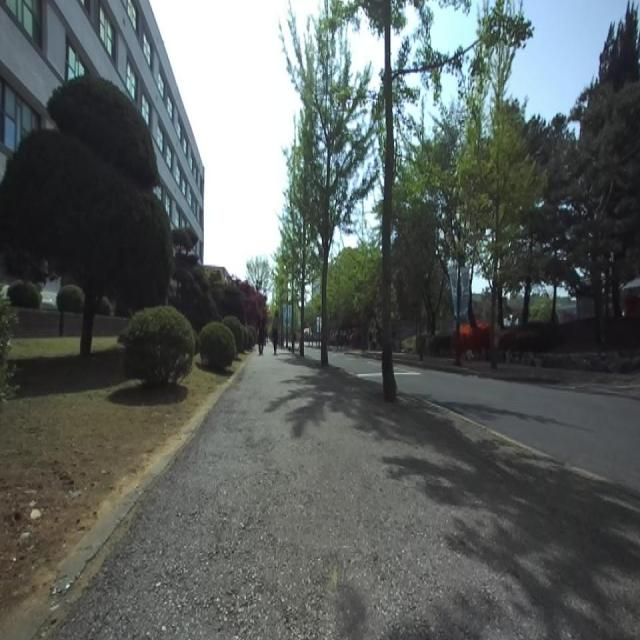sidewalk: (0, 351, 640, 639)
